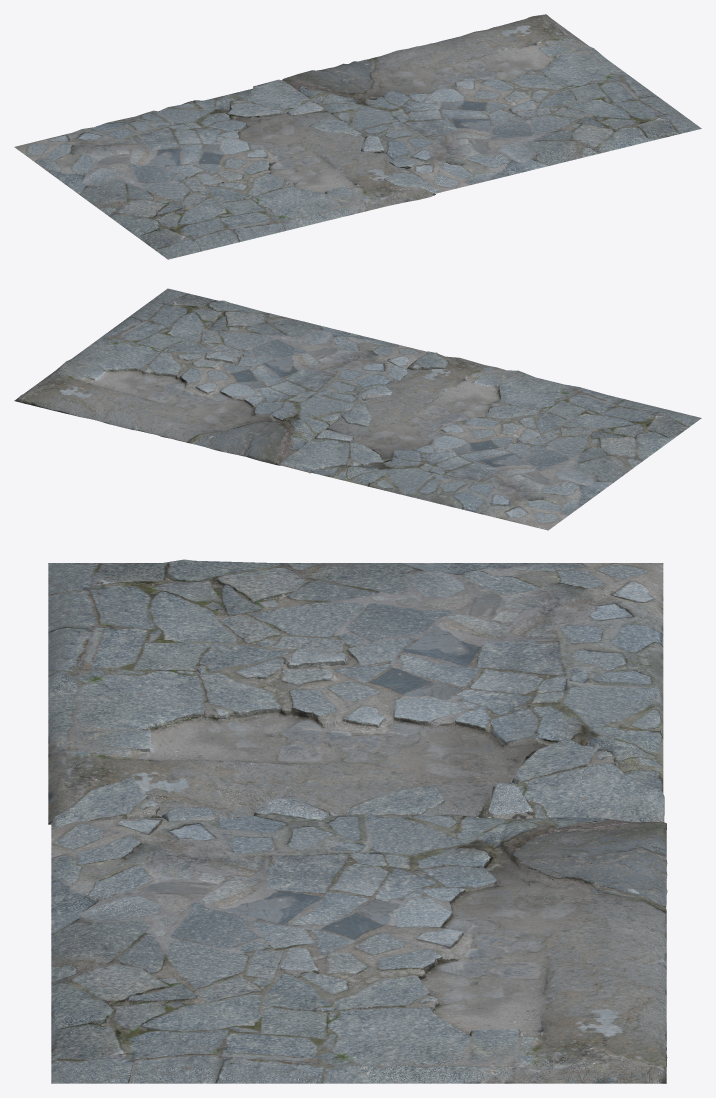
Rendered from sm_Stairs_01_09.fbx.
3 views of the same model, one above another, from view 1: azimuth 30°, elevation 25°; view 2: azimuth 150°, elevation 25°; view 3: azimuth 270°, elevation 25° (orthographic). The views are drawn at different scales.
Parts seen in each view (by area): view 1: sm_Stairs_01_09_LOD0; view 2: sm_Stairs_01_09_LOD0; view 3: sm_Stairs_01_09_LOD0.
Boxes of the visible parts, x1,y1,x2,y2 form: sm_Stairs_01_09_LOD0: (14,14,701,259); sm_Stairs_01_09_LOD0: (14,288,701,530); sm_Stairs_01_09_LOD0: (48,559,667,1083).
Size of the model in its own units: 402 by 202 by 7.15.
